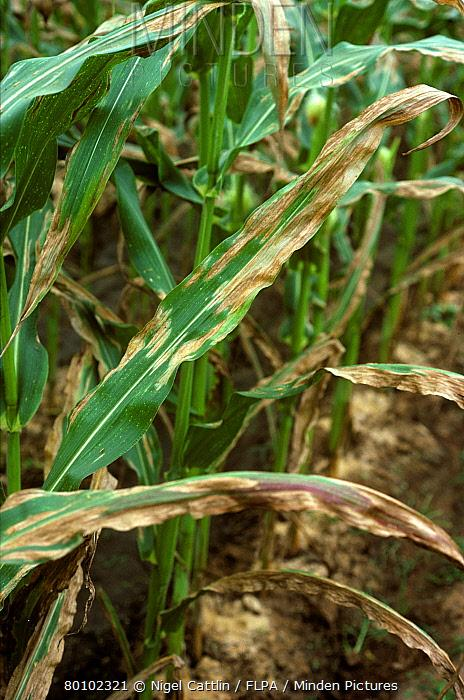Corn leaf blight: (45, 83, 456, 481), (1, 448, 459, 612), (20, 25, 214, 327), (4, 1, 303, 134), (155, 573, 451, 700), (209, 33, 463, 148), (243, 355, 464, 432)
